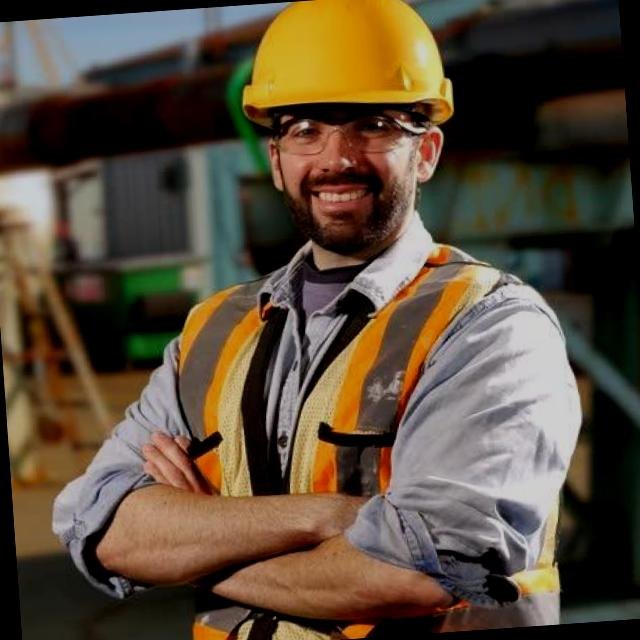helmet: (224, 0, 469, 139)
vest: (164, 251, 541, 640)
